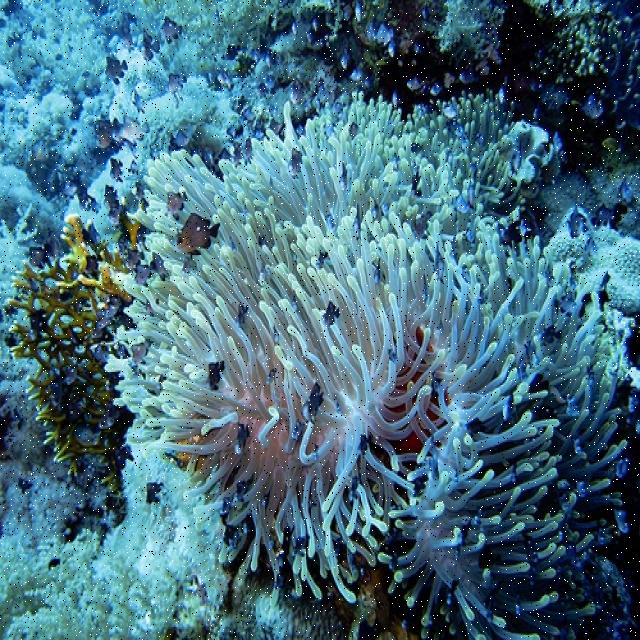fish: (177, 211, 220, 258)
reefs: (105, 93, 628, 640), (14, 215, 142, 493)
